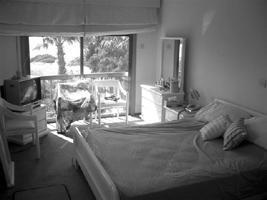Cama: (75, 104, 265, 199)
Ventana: (23, 34, 130, 114)
